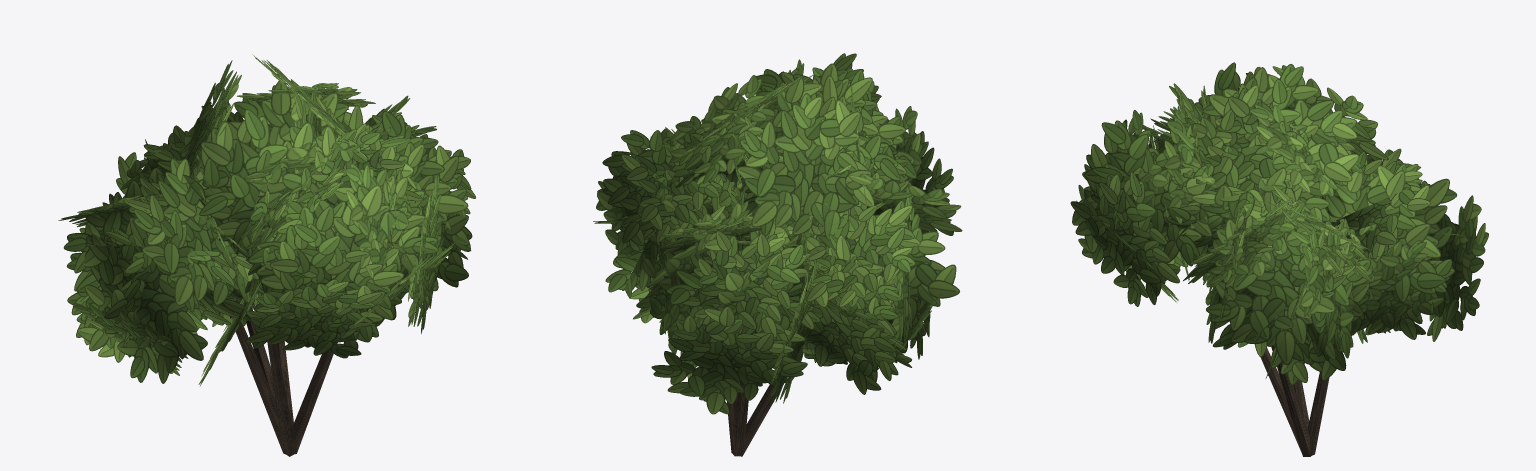
The model's file is cespuglio_1.glb.
The picture shows the model from 3 angles, left to right: view 1: azimuth 30°, elevation 25°; view 2: azimuth 150°, elevation 25°; view 3: azimuth 270°, elevation 25°; orthographic projection. The views are drawn at different scales.
Parts seen in each view (by area): view 1: cespuglio_1; view 2: cespuglio_1; view 3: cespuglio_1.
Part boxes in pixels (x1,y1,x2,y2): cespuglio_1: (58,54,475,456); cespuglio_1: (593,53,962,456); cespuglio_1: (1070,62,1488,456).
Bounding box in the file's own units: 3.58 × 3.3 × 3.55.
2 materials, 2 textured.
